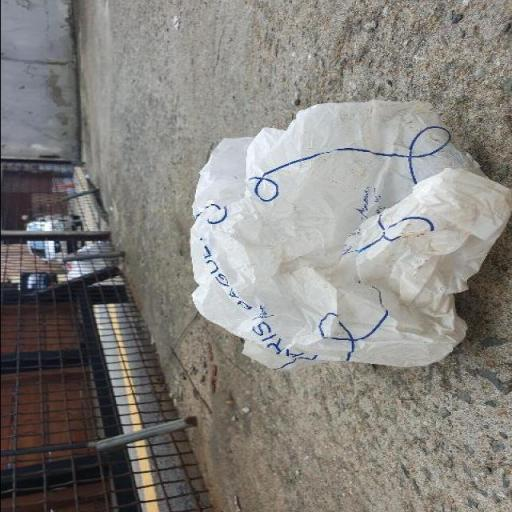plastic-bag: (182, 95, 512, 371)
